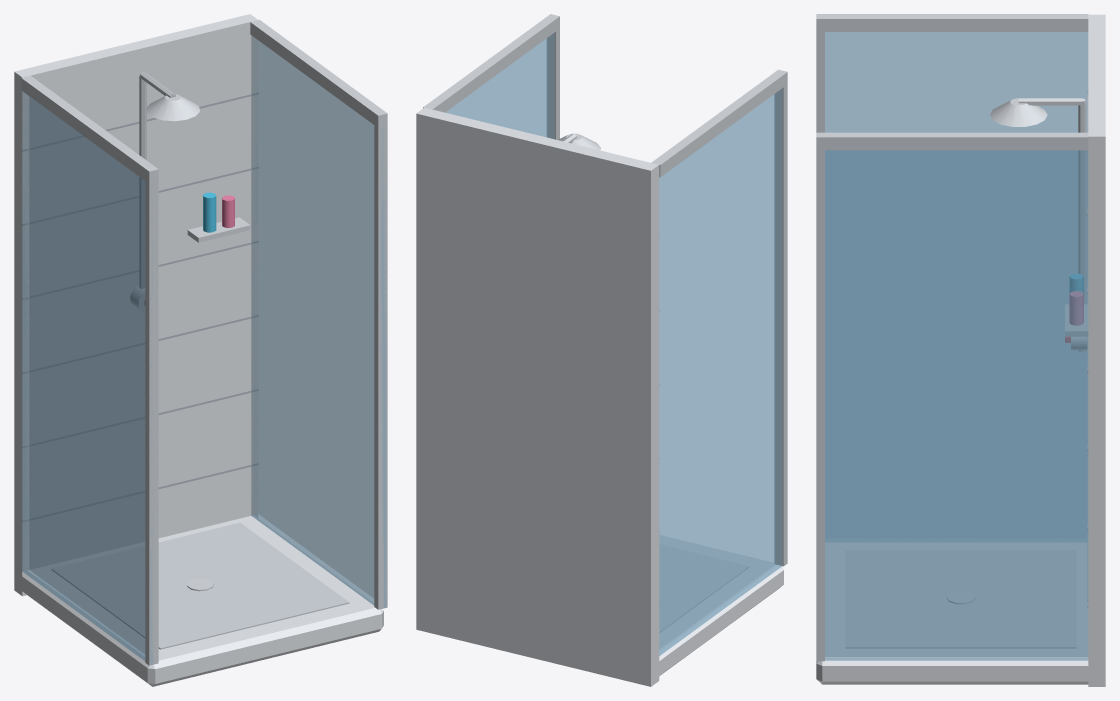
Rendered from shower.glb.
The picture shows the model from 3 angles, left to right: view 1: azimuth 30°, elevation 25°; view 2: azimuth 150°, elevation 25°; view 3: azimuth 270°, elevation 25°; orthographic projection. The views are drawn at different scales.
Parts seen in each view (by area): view 1: shower; view 2: shower; view 3: shower.
Boxes of the visible parts, x1,y1,x2,y2 form: shower: [14, 14, 387, 686]; shower: [416, 14, 787, 686]; shower: [816, 14, 1105, 686].
Bounding box in the file's own units: 1.01 × 2.1 × 1.
